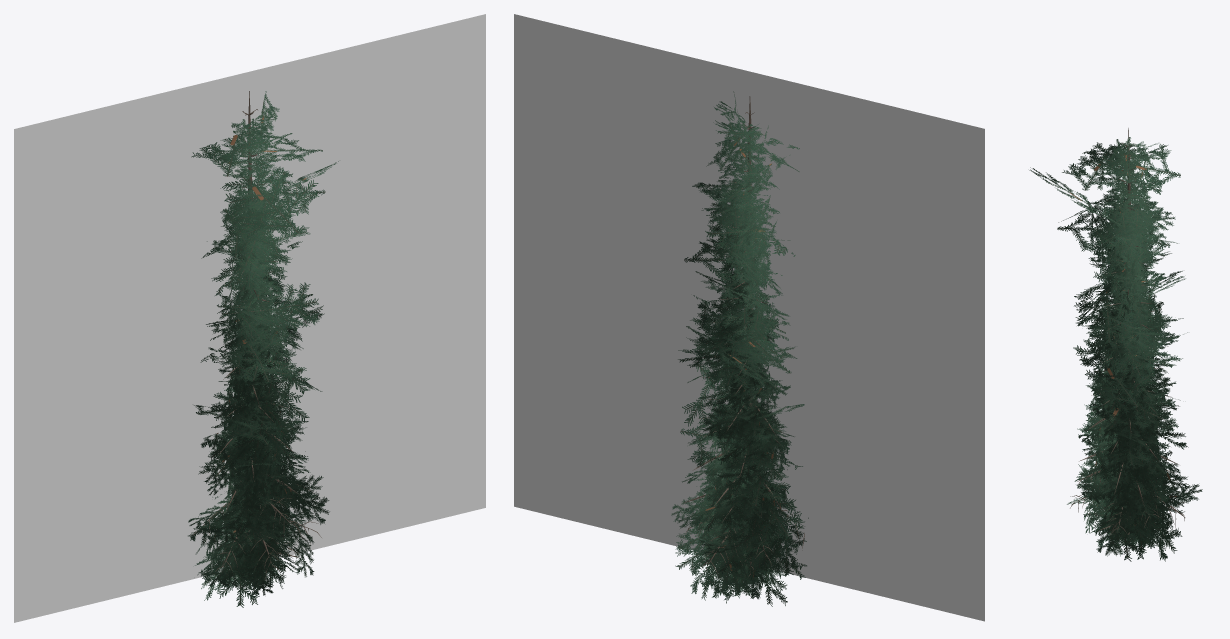
Rendered from epicea_adulte_a.fbx.
The picture shows the model from 3 angles, left to right: view 1: azimuth 30°, elevation 25°; view 2: azimuth 150°, elevation 25°; view 3: azimuth 270°, elevation 25°; orthographic projection. The views are drawn at different scales.
Parts seen in each view (by area): view 1: epicea_adulte_a_LOD3, epicea_adulte_a_LOD2, epicea_adulte_a_LOD1; view 2: epicea_adulte_a_LOD3, epicea_adulte_a_LOD2, epicea_adulte_a_LOD1; view 3: epicea_adulte_a_LOD2, epicea_adulte_a_LOD1.
Boxes of the visible parts, x1,y1,x2,y2 form: epicea_adulte_a_LOD3: (14,14,485,622); epicea_adulte_a_LOD2: (191,91,338,607); epicea_adulte_a_LOD1: (188,91,329,595); epicea_adulte_a_LOD3: (514,14,984,621); epicea_adulte_a_LOD2: (675,96,806,606); epicea_adulte_a_LOD1: (671,91,808,598); epicea_adulte_a_LOD2: (1029,128,1188,561); epicea_adulte_a_LOD1: (1067,130,1202,556).
Size of what is drawn, in the model's own units: 27.77 by 30.26 by 12.24.
